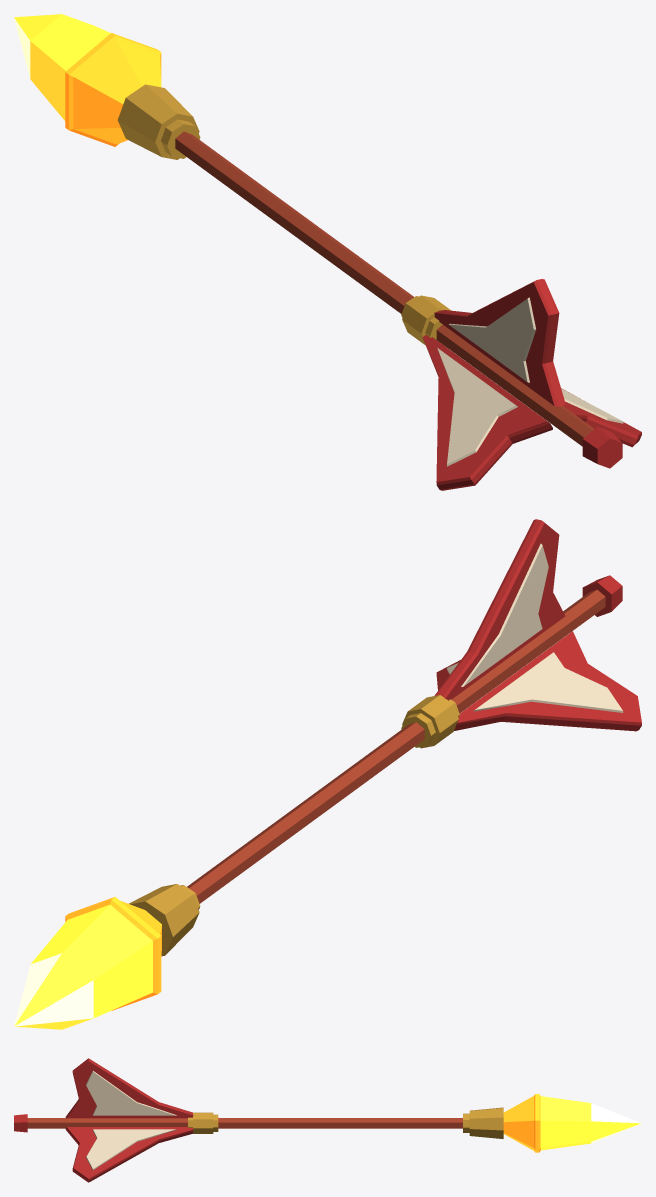
File: ember_fang_arrow.glb
3 renders of one model, top to bottom at view 1: azimuth 30°, elevation 25°; view 2: azimuth 150°, elevation 25°; view 3: azimuth 270°, elevation 25°, orthographic. The views are drawn at different scales.
Parts seen in each view (by area): view 1: ArrowFletchCrimson, ArrowShaft, ArrowFletchCream, ArrowHeadLower, ArrowHeadUpper, ArrowHeadCollar, ArrowHeadGirdle, ArrowRearCollar, ArrowNock; view 2: ArrowFletchCrimson, ArrowHeadUpper, ArrowShaft, ArrowFletchCream, ArrowHeadCollar, ArrowHeadHighlight, ArrowRearCollar, ArrowHeadGirdle, ArrowNock; view 3: ArrowFletchCrimson, ArrowShaft, ArrowFletchCream, ArrowHeadUpper, ArrowHeadLower, ArrowHeadCollar, ArrowRearCollar, ArrowHeadHighlight, ArrowHeadGirdle, ArrowNock.
Part boxes in pixels (box(x1,y1,x2,y2)): ArrowFletchCrimson: box(422, 279, 641, 490); ArrowShaft: box(175, 131, 593, 446); ArrowFletchCream: box(437, 297, 623, 466); ArrowHeadLower: box(73, 40, 161, 144); ArrowHeadUpper: box(14, 14, 110, 120); ArrowHeadCollar: box(117, 84, 200, 159); ArrowHeadGirdle: box(65, 33, 161, 146); ArrowRearCollar: box(401, 295, 450, 346); ArrowNock: box(582, 427, 622, 468); ArrowFletchCrimson: box(434, 519, 641, 731); ArrowHeadUpper: box(14, 904, 152, 1029); ArrowShaft: box(187, 589, 605, 903); ArrowFletchCream: box(447, 543, 623, 712); ArrowHeadCollar: box(129, 884, 200, 956); ArrowHeadHighlight: box(14, 953, 93, 1026); ArrowRearCollar: box(401, 695, 459, 748); ArrowHeadGirdle: box(65, 897, 161, 1010); ArrowNock: box(582, 575, 622, 616); ArrowFletchCrimson: box(65, 1058, 193, 1182); ArrowShaft: box(27, 1118, 462, 1128); ArrowFletchCream: box(86, 1070, 176, 1169); ArrowHeadUpper: box(540, 1096, 641, 1150); ArrowHeadLower: box(503, 1096, 533, 1150); ArrowHeadCollar: box(463, 1107, 503, 1138); ArrowRearCollar: box(188, 1112, 218, 1133); ArrowHeadHighlight: box(591, 1103, 641, 1143); ArrowHeadGirdle: box(534, 1094, 540, 1152); ArrowNock: box(14, 1114, 27, 1132).
Size of the model in its own units: 0.3703 by 0.3232 by 1.86.
